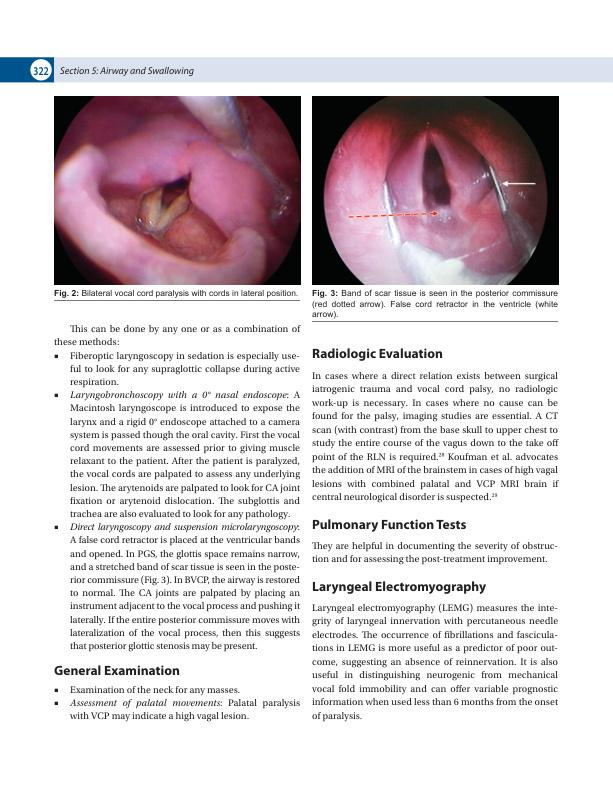caption: (311, 288, 559, 320), (53, 289, 299, 299)
header: (59, 66, 195, 77)
image: (54, 96, 301, 285), (312, 96, 559, 285)
list: (52, 350, 301, 653), (52, 685, 301, 723)
sub-section-heading: (311, 580, 487, 595), (311, 518, 467, 533), (311, 347, 443, 362), (53, 663, 180, 677)
text: (312, 371, 560, 504), (311, 603, 559, 723), (312, 540, 558, 566), (53, 324, 302, 347)
